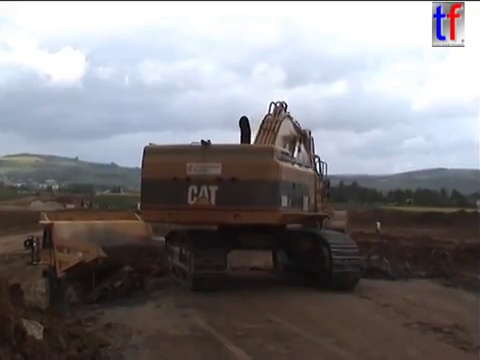excavator: (136, 97, 366, 295), (75, 198, 98, 212)
truck: (22, 208, 217, 315), (49, 189, 57, 199), (34, 190, 42, 198)
worker: (373, 217, 384, 236)
